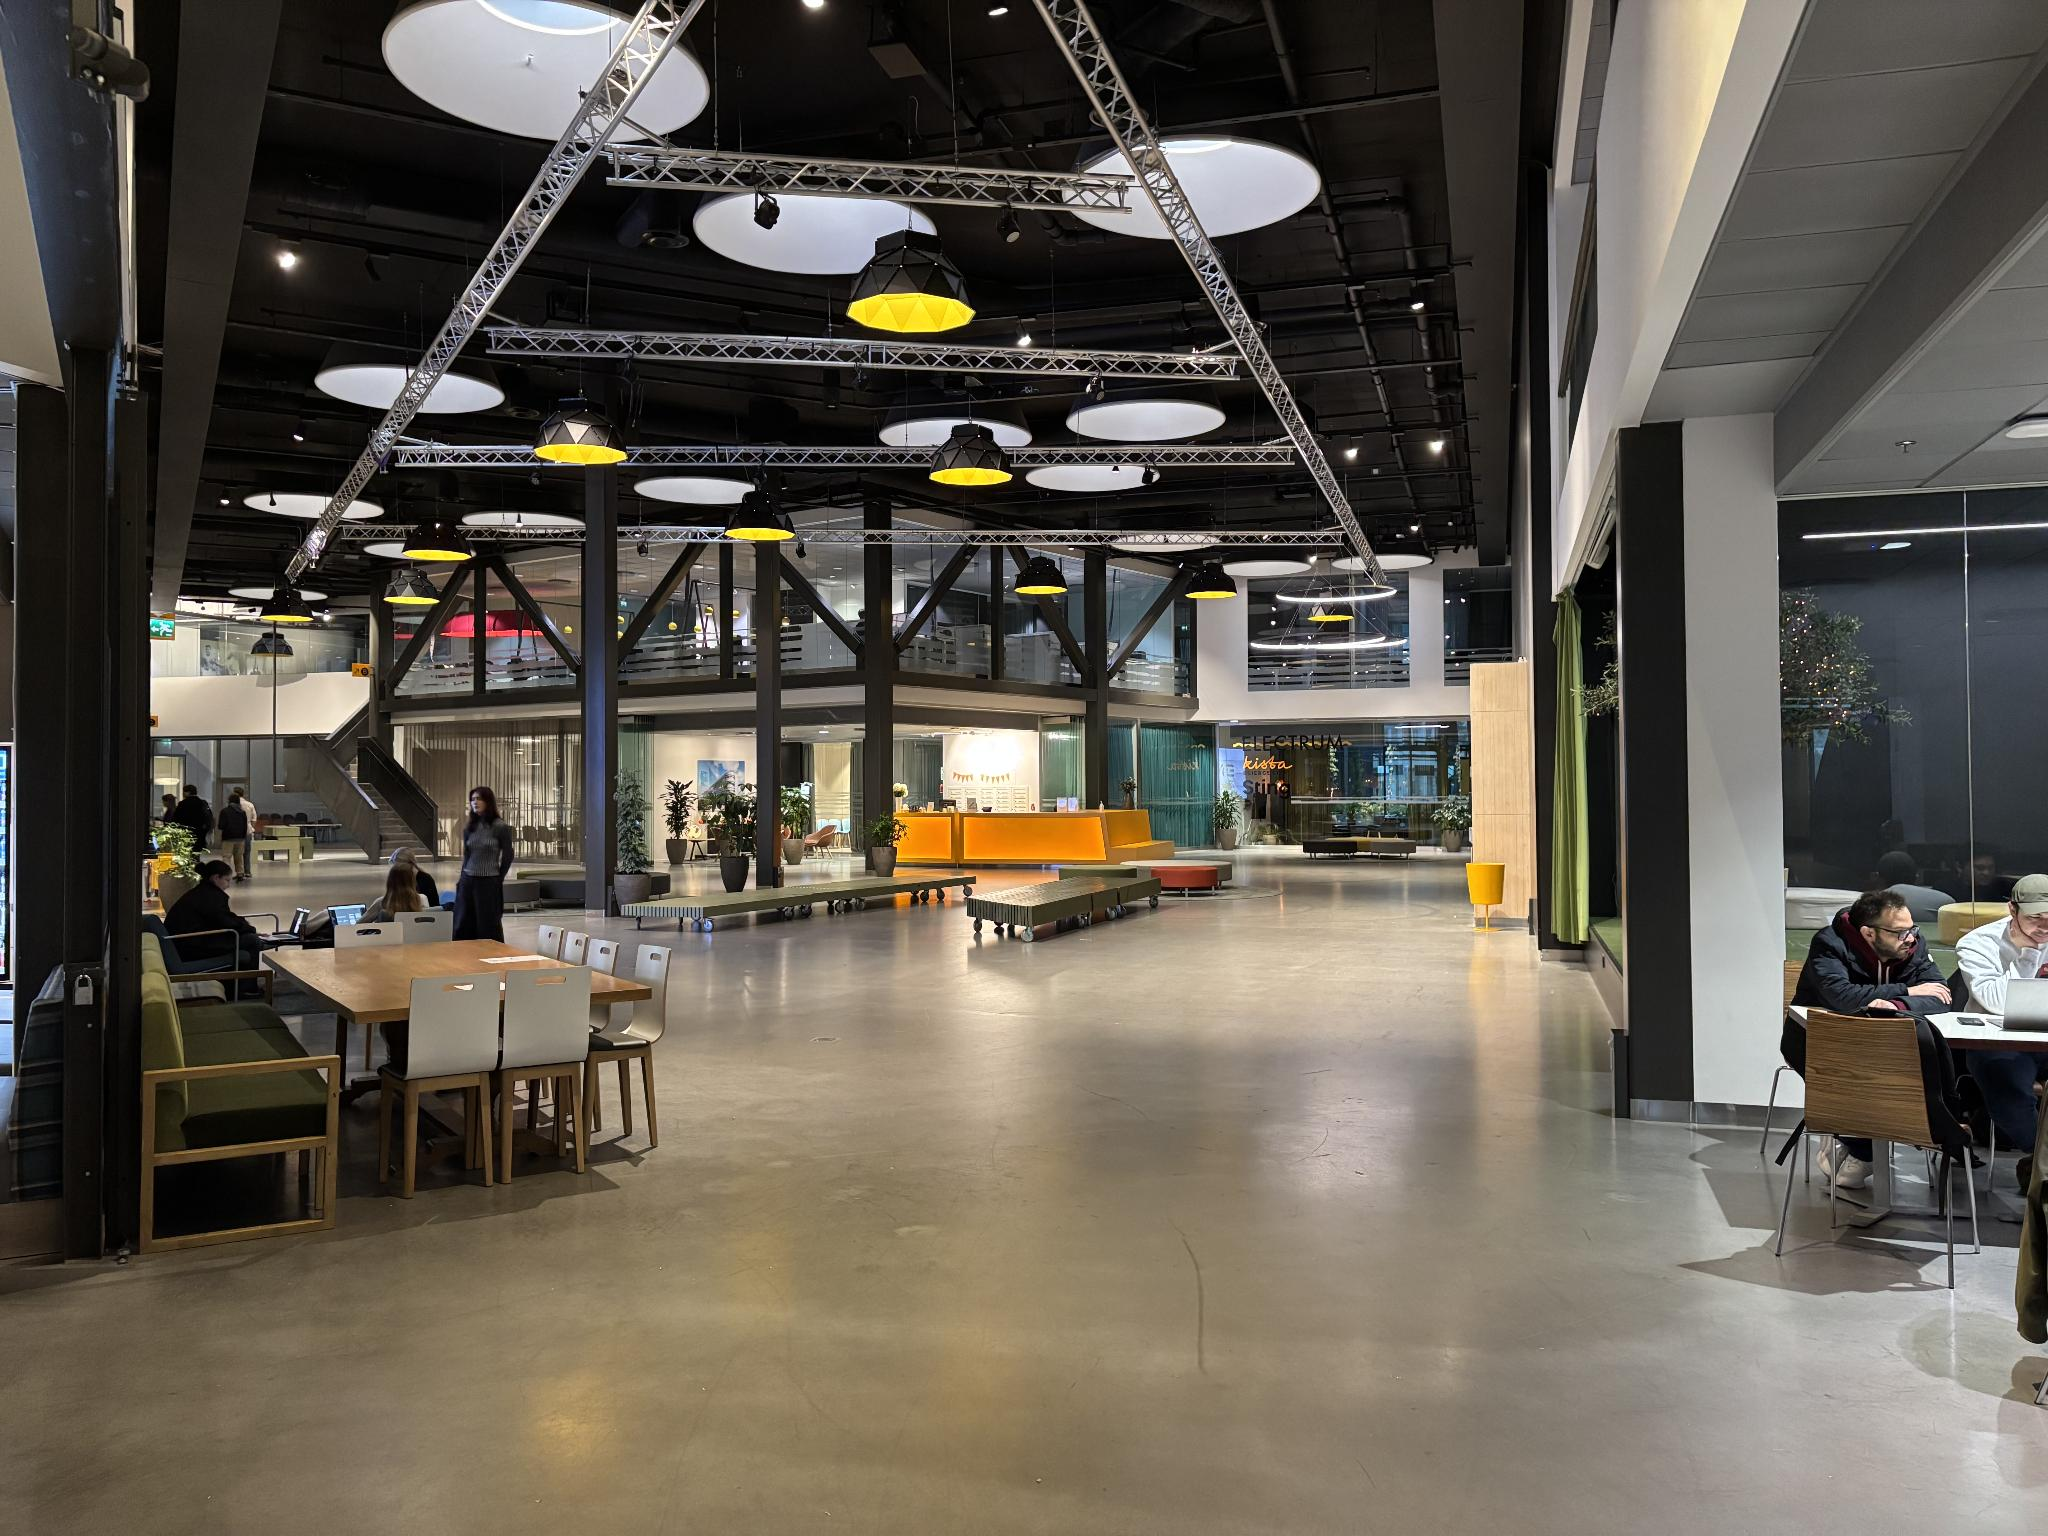person: (456, 786, 510, 938), (197, 861, 238, 927), (368, 867, 428, 910), (220, 794, 239, 859), (182, 786, 198, 825)
